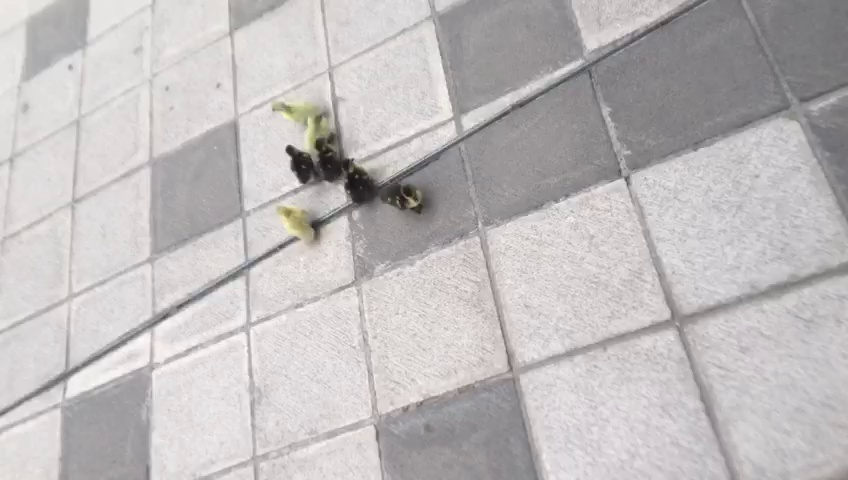patito: (378, 180, 427, 216), (275, 201, 314, 242), (269, 95, 324, 124), (341, 158, 375, 203), (309, 140, 348, 179), (283, 141, 315, 186), (302, 114, 337, 148)
